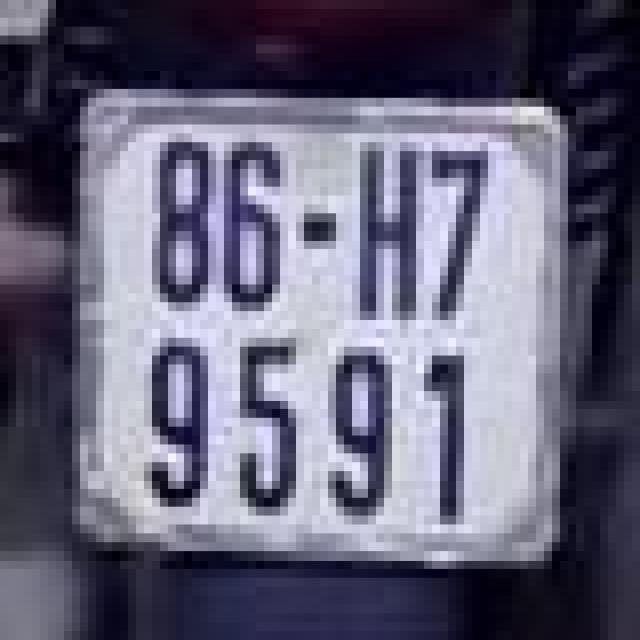1: (416, 338, 496, 551)
5: (228, 338, 316, 524)
6: (220, 133, 300, 329)
7: (432, 138, 504, 324)
8: (148, 133, 220, 311)
9: (324, 338, 396, 524), (140, 338, 212, 516)
H: (348, 133, 428, 329)
